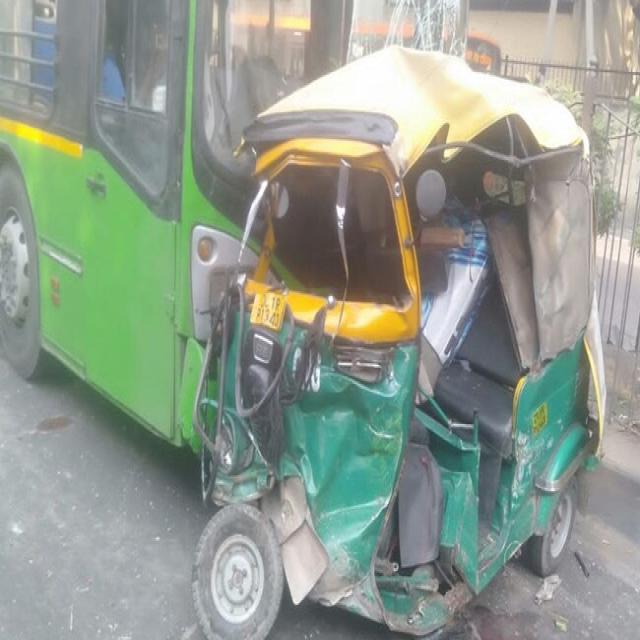accident: (192, 47, 605, 638)
bus: (0, 0, 352, 445)
